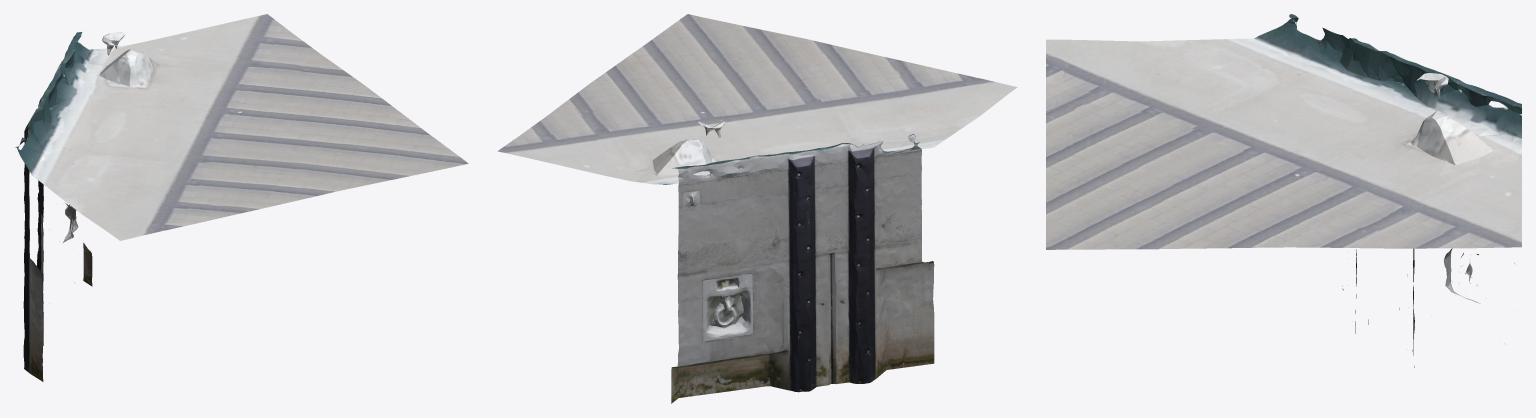
3 renders of one model, left to right at view 1: azimuth 30°, elevation 25°; view 2: azimuth 150°, elevation 25°; view 3: azimuth 270°, elevation 25°, orthographic. The views are drawn at different scales.
Size of the model in its own units: 4.18 by 3.12 by 4.18.
3 materials, 3 textured.
